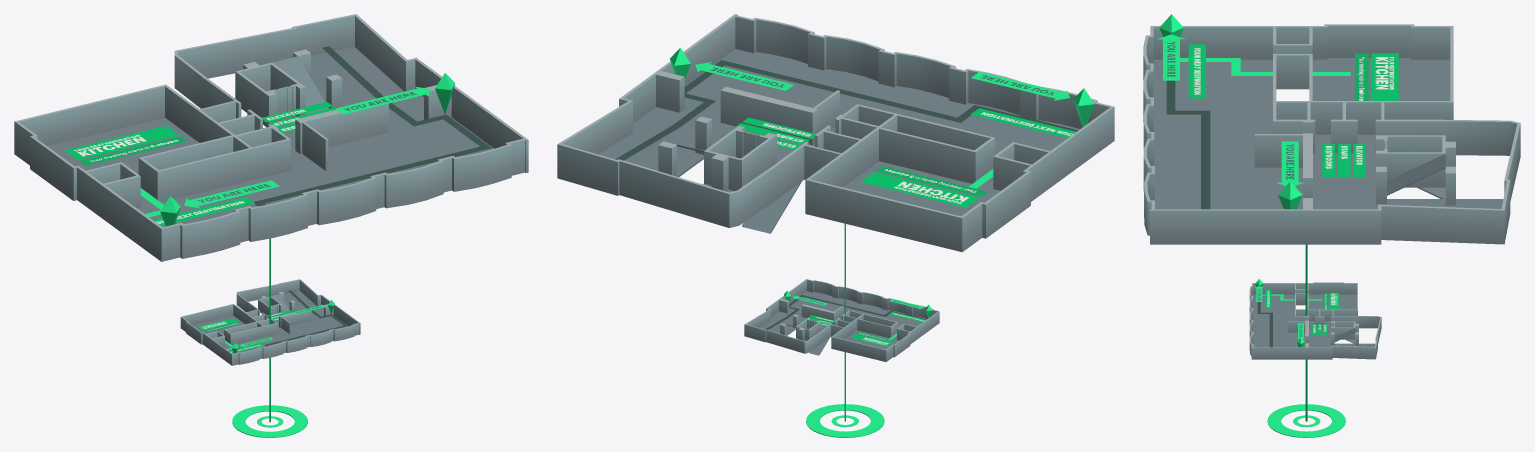
File: SM_ENV_XRStudio_merged.glb
The picture shows the model from 3 angles, left to right: view 1: azimuth 30°, elevation 25°; view 2: azimuth 150°, elevation 25°; view 3: azimuth 270°, elevation 25°; orthographic projection. The views are drawn at different scales.
Parts seen in each view (by area): view 1: SM_ENV_XRStudio_merged_x200_offset@100and35merged; view 2: SM_ENV_XRStudio_merged_x200_offset@100and35merged; view 3: SM_ENV_XRStudio_merged_x200_offset@100and35merged.
Boxes of the visible parts, <box> form: SM_ENV_XRStudio_merged_x200_offset@100and35merged: <box>14,14,528,437</box>; SM_ENV_XRStudio_merged_x200_offset@100and35merged: <box>557,14,1114,437</box>; SM_ENV_XRStudio_merged_x200_offset@100and35merged: <box>1143,14,1520,437</box>.
Size of the model in its own units: 2.97 by 2.41 by 2.54.
Materials: 1 (1 with a texture image).
